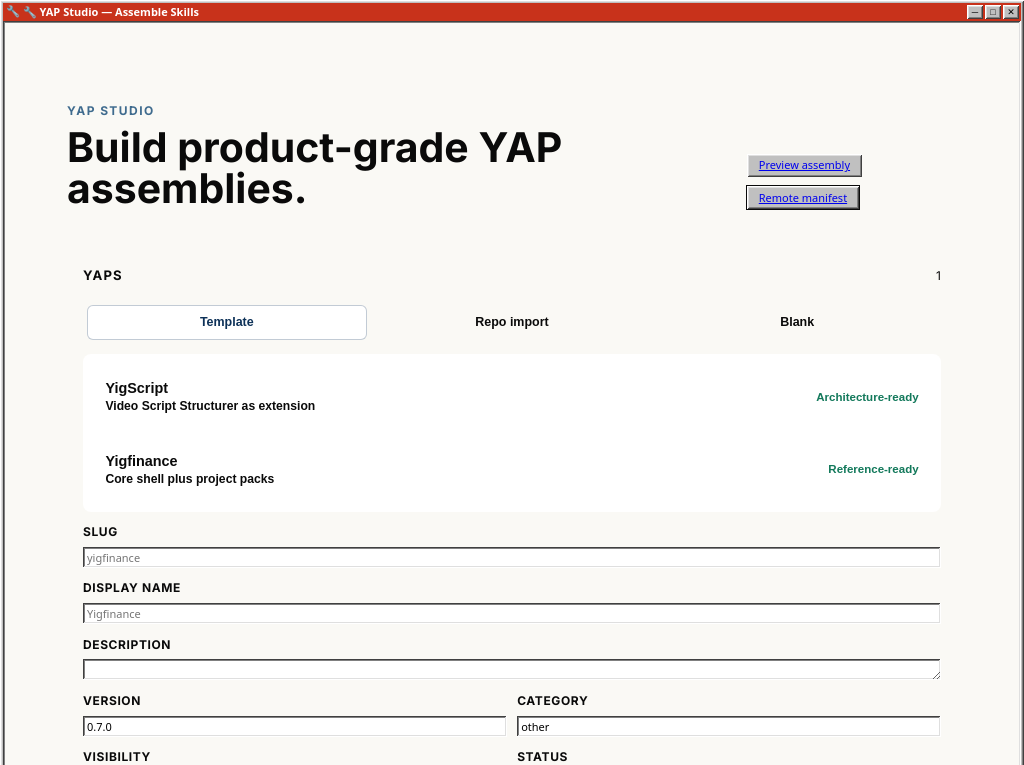
Test case: YapStudioPage › previews a repo import and surfaces real repository scale
This screenshot has width=1024, height=765.
Expected: the text "Yigfinance" is shown, [105,453,178,469]
Click the tab "Repo import" at {"x": 512, "y": 322}, box [372,305,652,340]
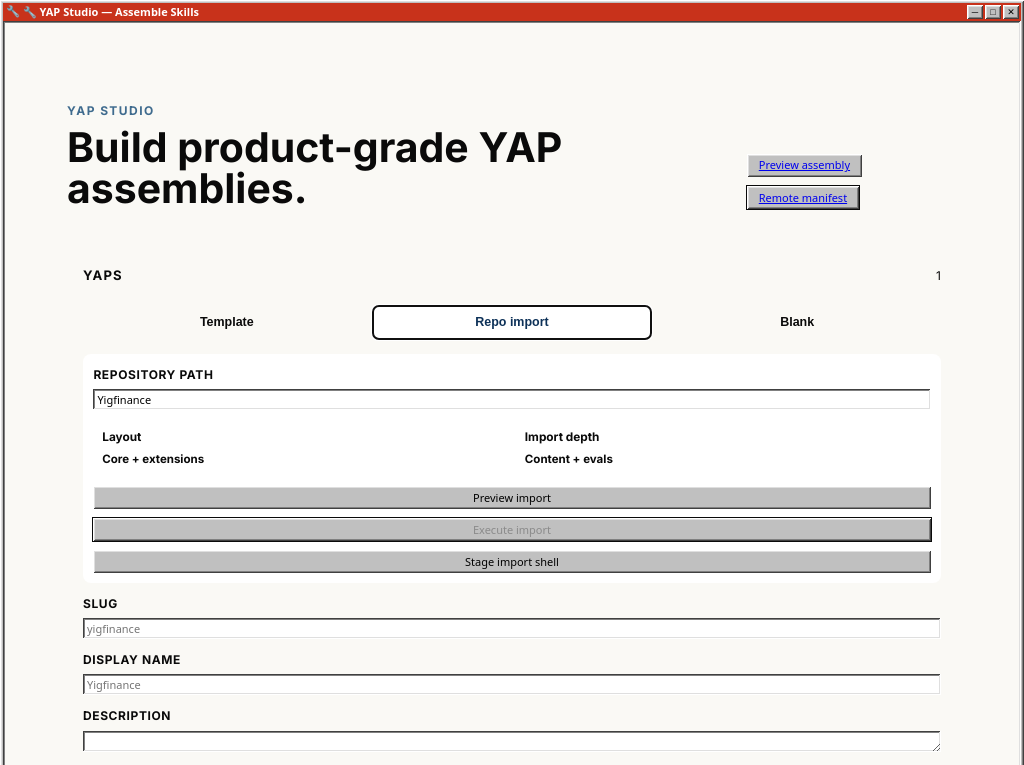
Click the button "Preview import" at {"x": 512, "y": 498}, box [93,486,931,509]
(page scrolled)
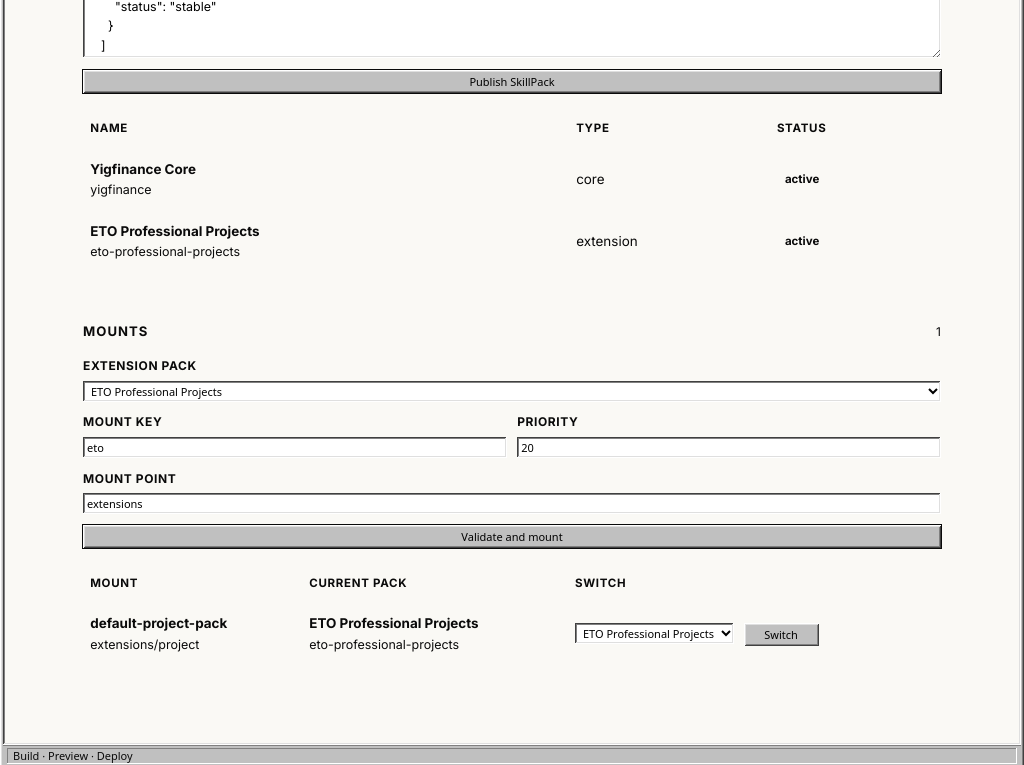
Expected: the field labelled "Mount key" holds "eto", [83,437,507,458]
